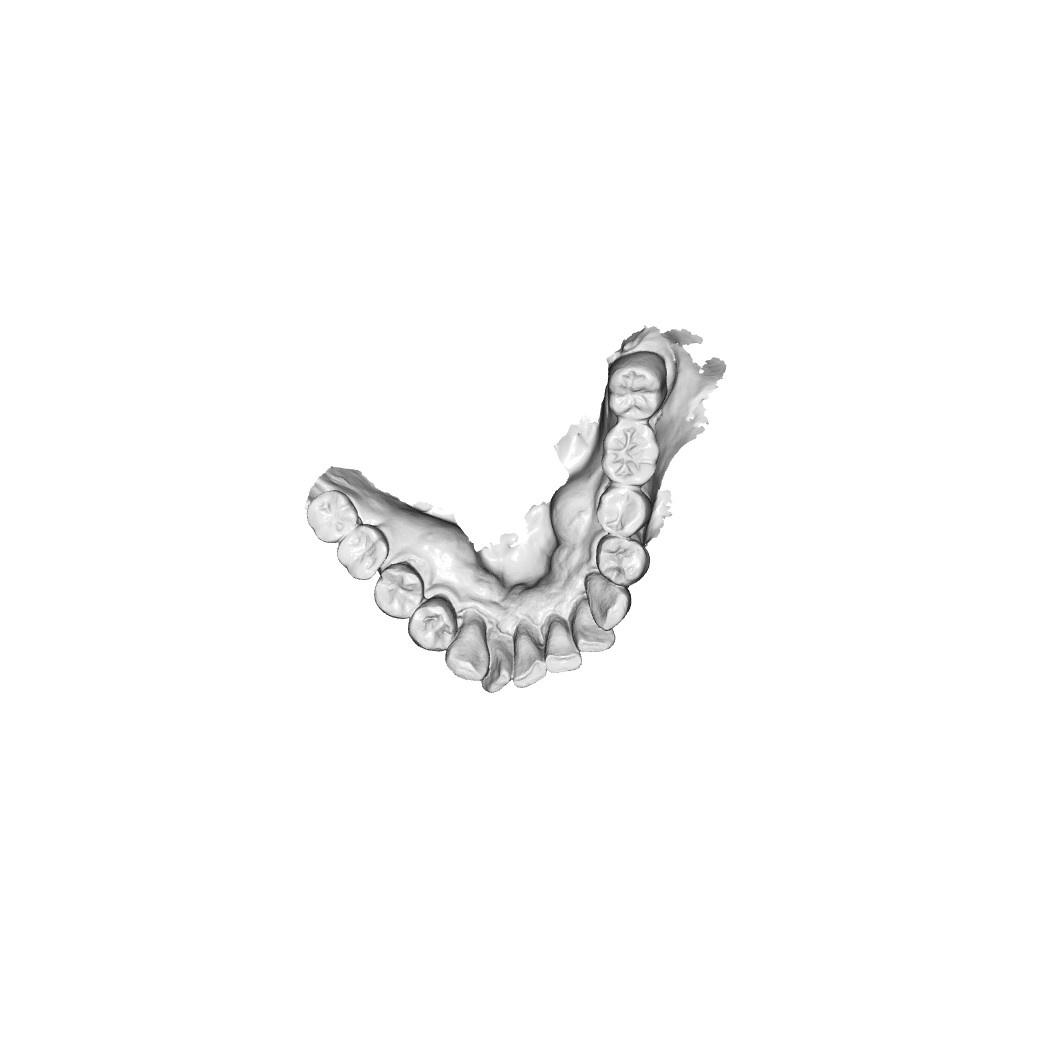canine: (444, 618, 493, 684), (582, 571, 631, 632)
incisor: (543, 619, 582, 678), (511, 628, 547, 690), (573, 603, 616, 654), (481, 633, 511, 696)
molar: (598, 419, 662, 489), (605, 353, 668, 422), (334, 522, 390, 582), (307, 487, 362, 544)
premolar: (592, 485, 653, 539), (372, 563, 426, 621), (592, 533, 649, 587), (404, 596, 458, 653)
